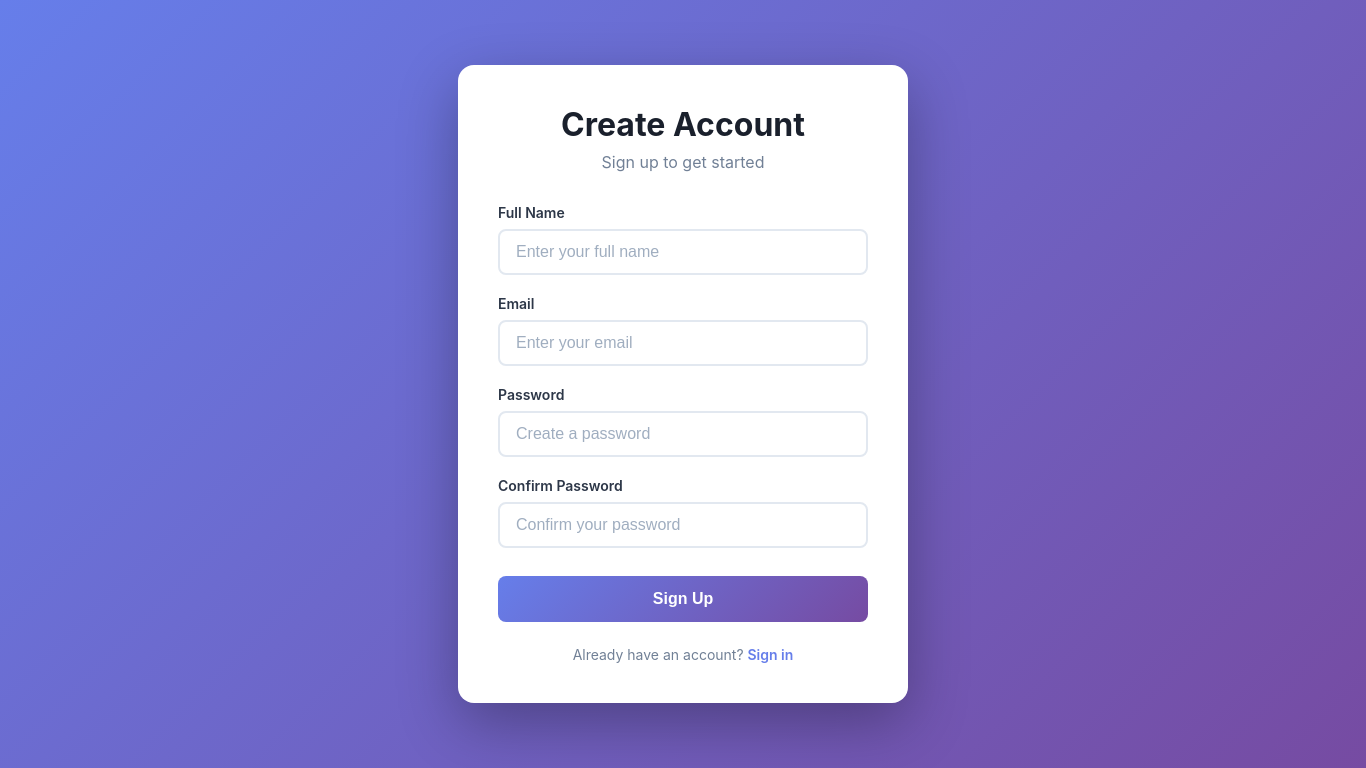
Test: Register Component › should show error when passwords do not match
The width and height of the screenshot is (1366, 768).
In the field labelled "Full Name": x=683, y=252 x1=498 y1=229 x2=868 y2=275, type "Test User"
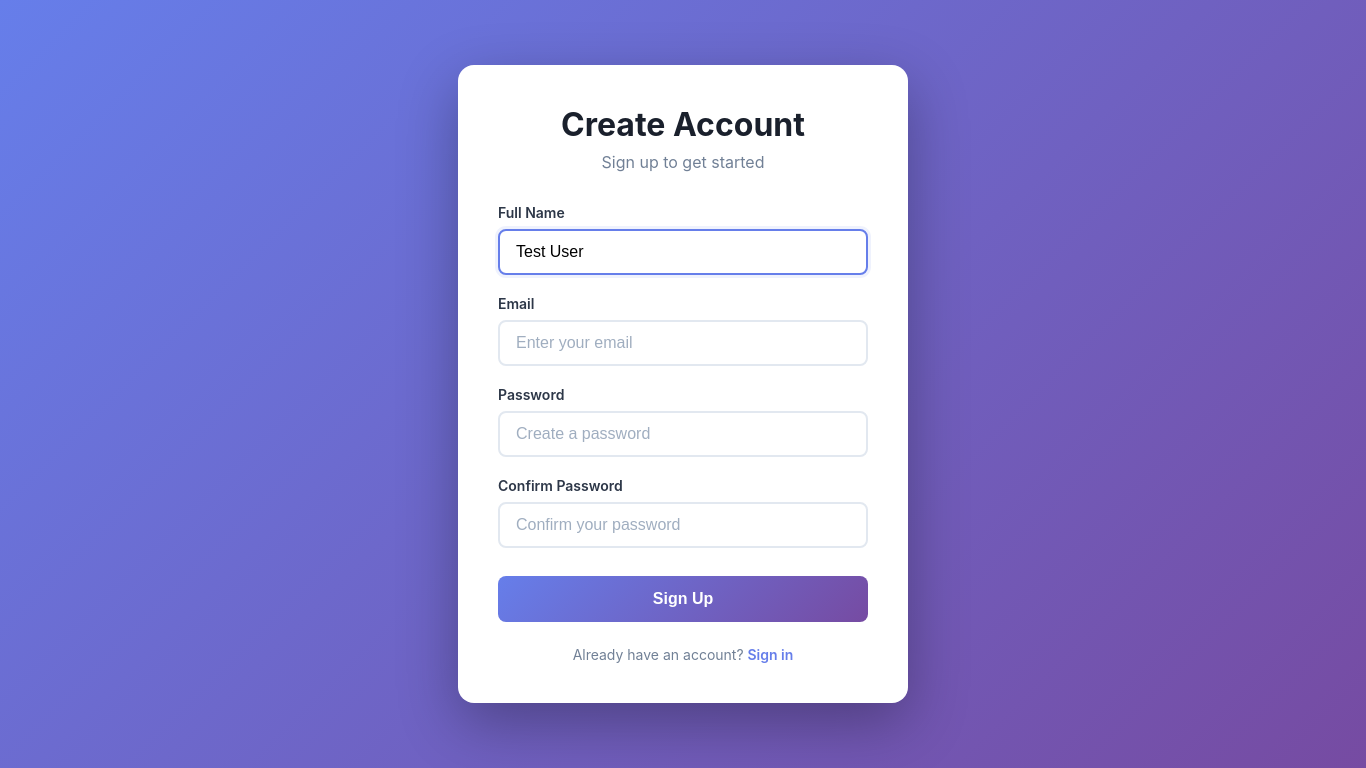
In the field labelled "Email": x=683, y=343 x1=498 y1=320 x2=868 y2=366, type "test@example.com"
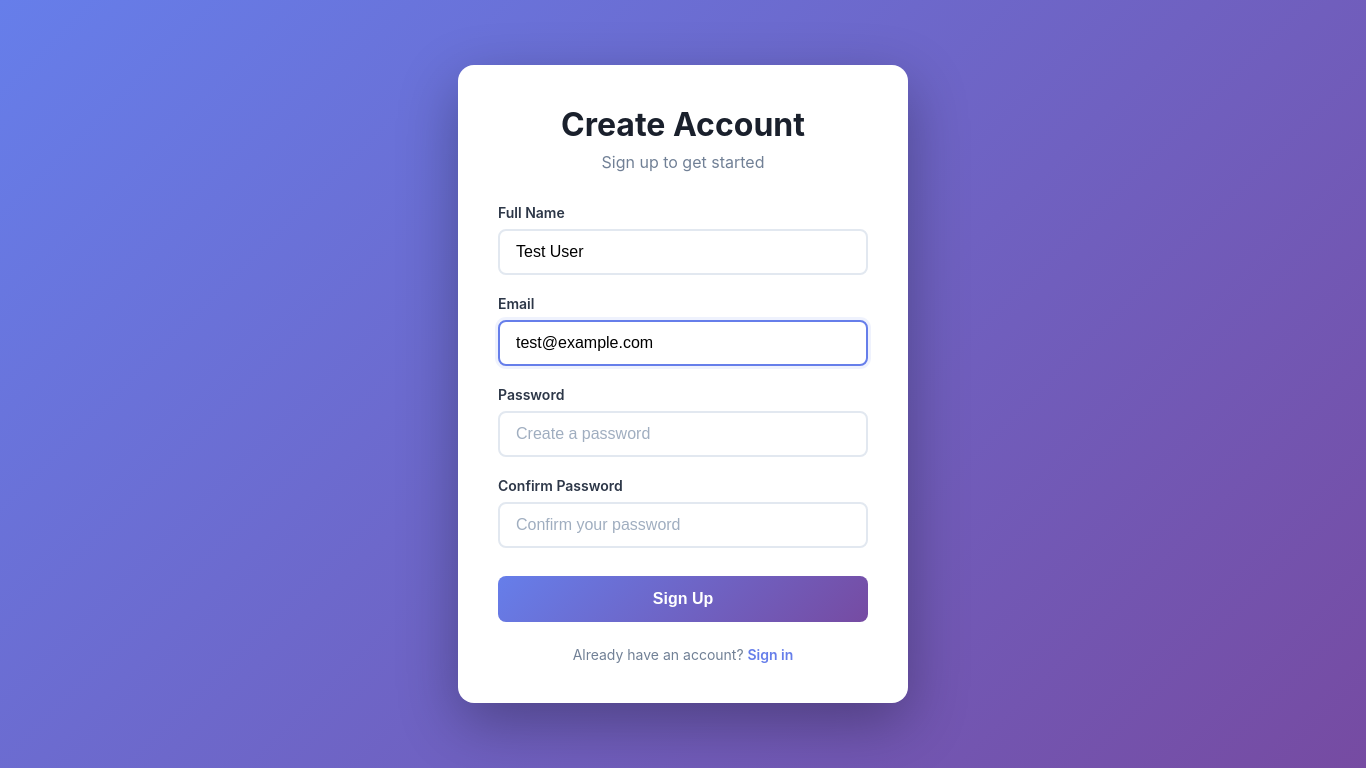
In the password field labelled "Password": x=683, y=434 x1=498 y1=411 x2=868 y2=457, type "password123"
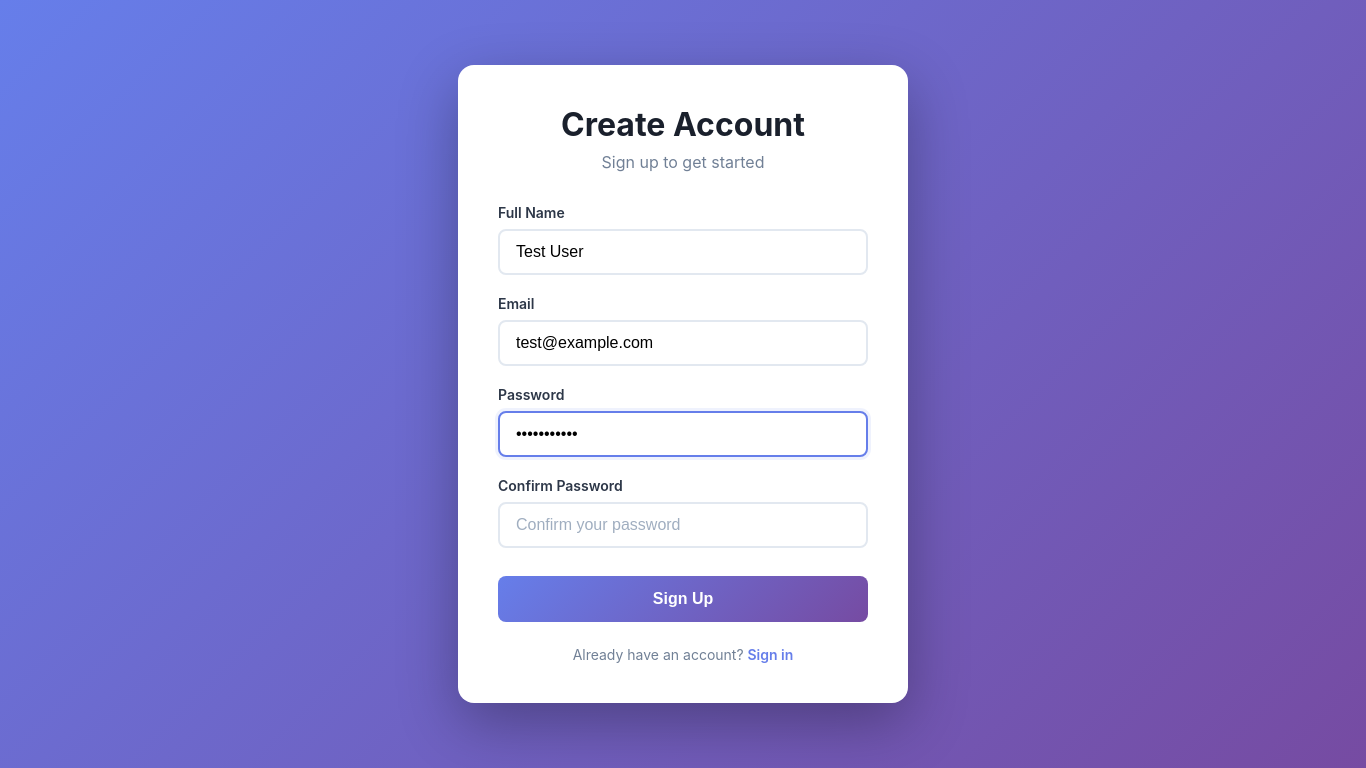
In the password field labelled "Confirm Password": x=683, y=525 x1=498 y1=502 x2=868 y2=548, type "password456"
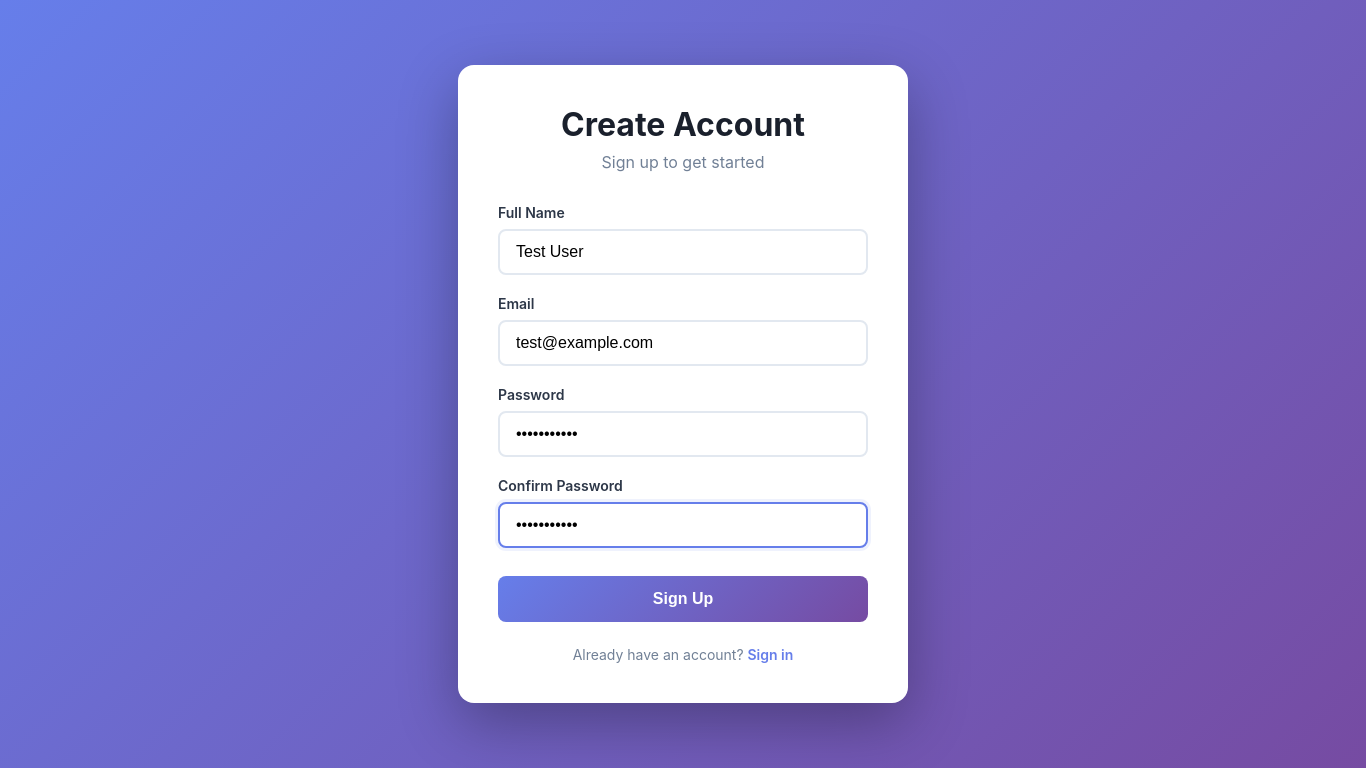
Click the button "Sign Up": x=683, y=599 x1=498 y1=576 x2=868 y2=622
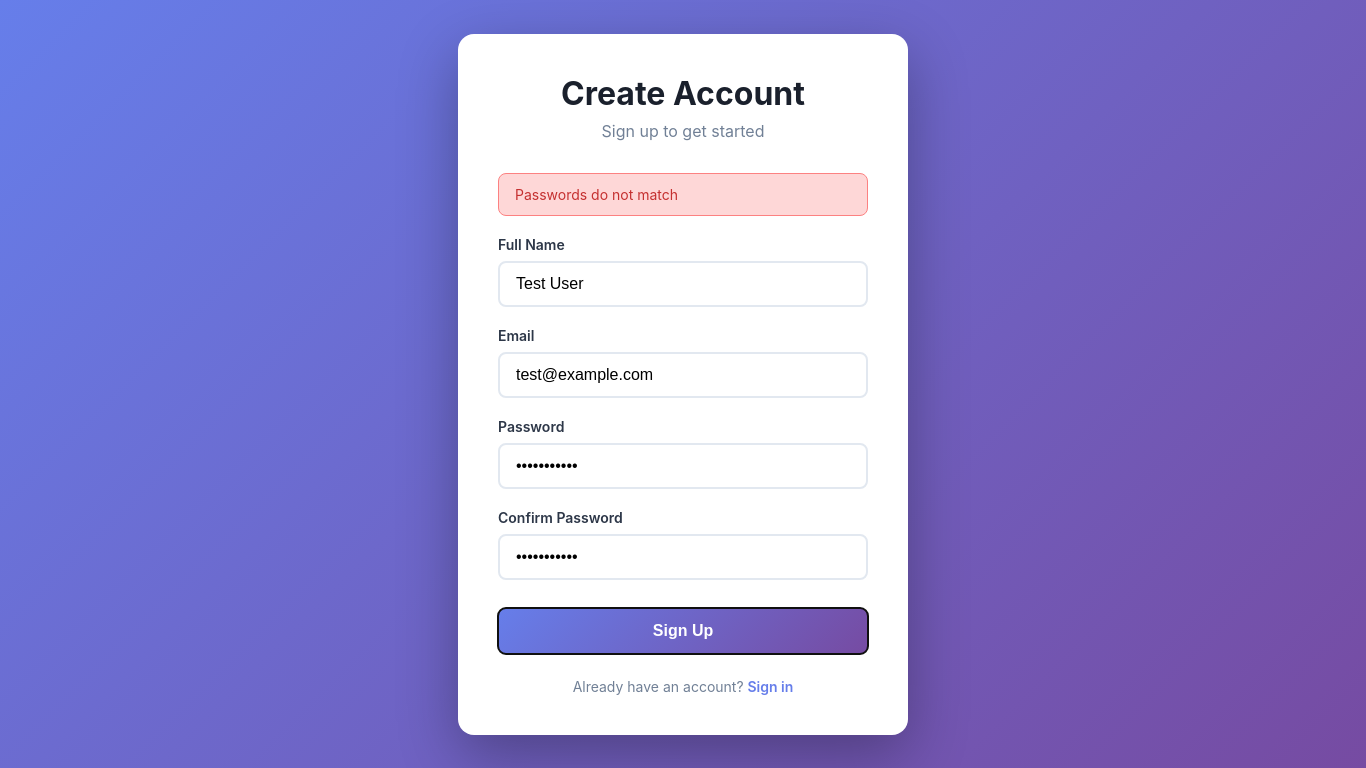
Expected: the text "Passwords do not match" is shown, x1=498 y1=172 x2=868 y2=216
